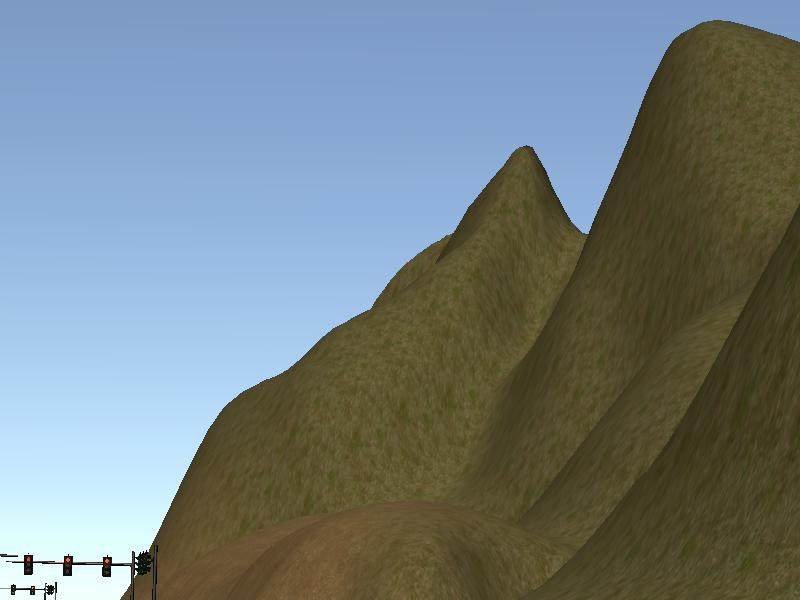Red: (100, 554, 111, 577), (23, 553, 32, 578), (63, 553, 72, 578)
